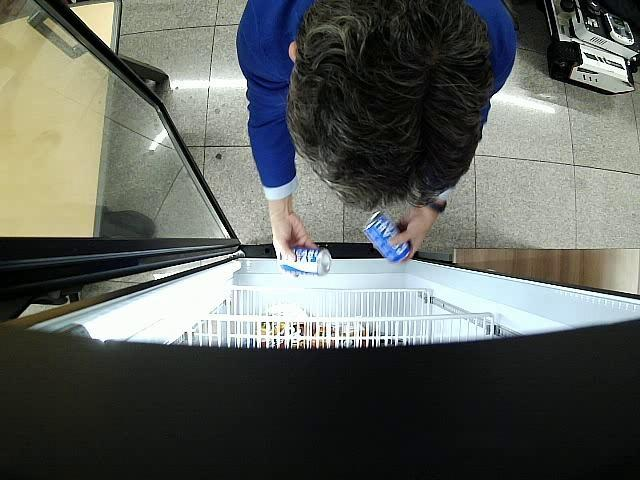13_pocariSweat: (362, 212, 410, 264), (280, 246, 332, 274)
